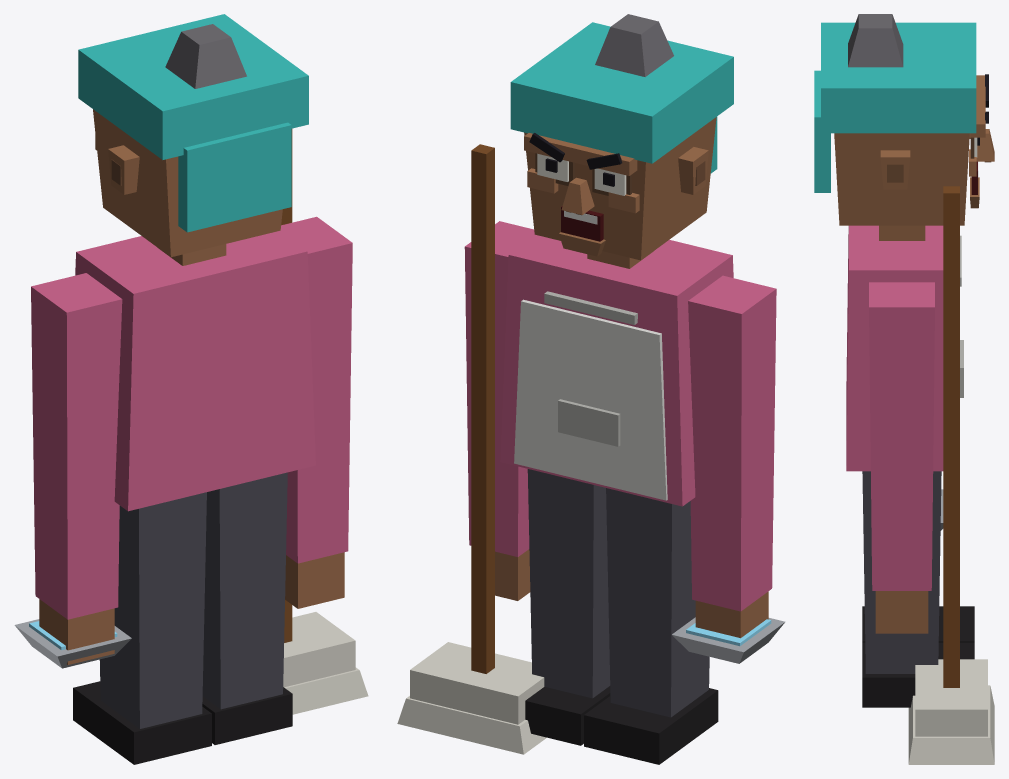
The model's file is sweeper.glb.
The picture shows the model from 3 angles, left to right: view 1: azimuth 30°, elevation 25°; view 2: azimuth 150°, elevation 25°; view 3: azimuth 270°, elevation 25°; orthographic projection. The views are drawn at different scales.
Visible parts, largest first — view 1: Torso, Head, ArmL, ArmR, LegL, LegR, NeckMesh; view 2: Torso, Head, ArmR, ArmL, LegL, LegR; view 3: ArmR, Head, Torso, LegR, LegL, NeckMesh.
Boxes of the visible parts, x1,y1,x2,y2 form: Torso: (75,231,315,511); Head: (78,14,308,257); ArmL: (14,273,131,668); ArmR: (280,129,368,714); LegL: (73,492,211,764); LegR: (202,472,292,744); NeckMesh: (158,244,226,265); Torso: (500,235,733,506); Head: (510,14,733,260); ArmR: (397,144,546,754); ArmL: (672,275,785,663); LegL: (584,488,718,764); LegR: (525,469,610,745); ArmR: (869,186,994,764); Head: (814,14,994,225); Torso: (846,225,963,471); LegR: (862,471,974,707); LegL: (862,606,974,642); NeckMesh: (879,225,925,240).
Bounding box in the file's own units: 1.07 × 2.21 × 0.545.
